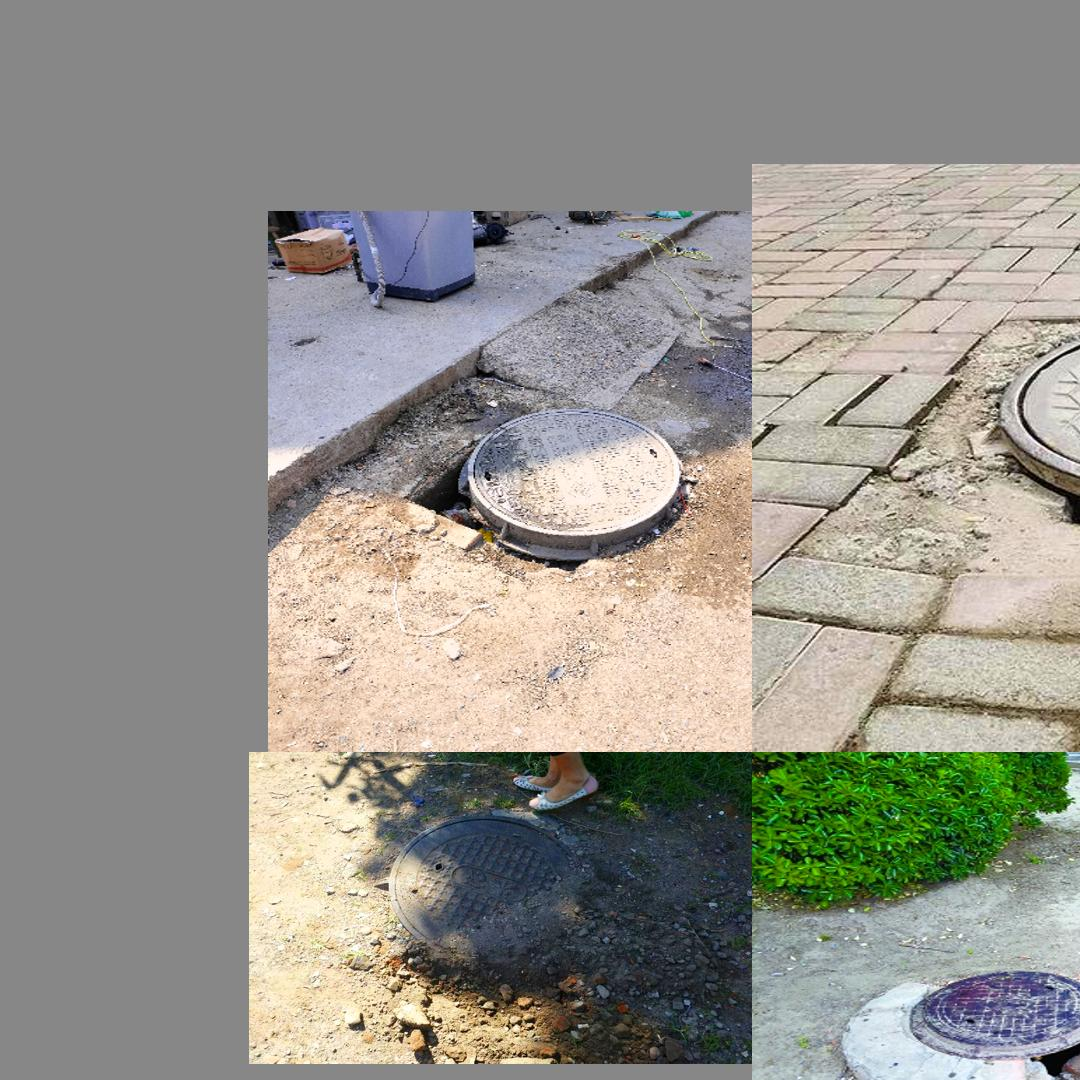circle: (810, 307, 1080, 575), (339, 811, 629, 982), (426, 398, 693, 566), (832, 965, 1080, 1080)
